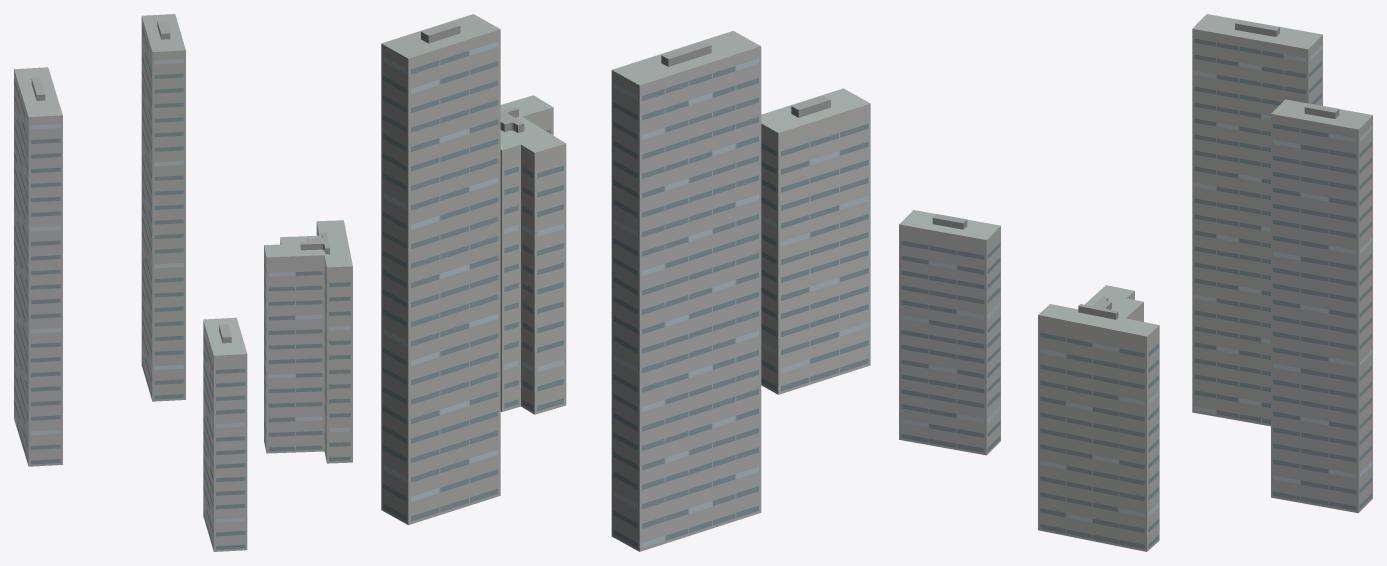
File: apt-a10020868.glb
The picture shows the model from 3 angles, left to right: view 1: azimuth 30°, elevation 25°; view 2: azimuth 150°, elevation 25°; view 3: azimuth 270°, elevation 25°; orthographic projection. The views are drawn at different scales.
Visible parts, largest first — view 1: apt-a10020868; view 2: apt-a10020868; view 3: apt-a10020868.
Part boxes in pixels (<box>): apt-a10020868: <box>14,14,352,551</box>; apt-a10020868: <box>381,14,870,551</box>; apt-a10020868: <box>899,14,1372,551</box>.
Bounding box in the file's own units: 124 × 146 × 161.
